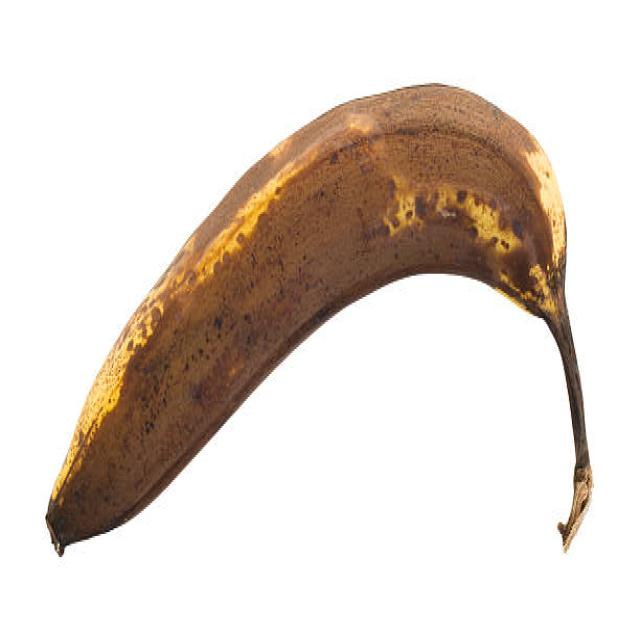overripe: (39, 77, 571, 559)
